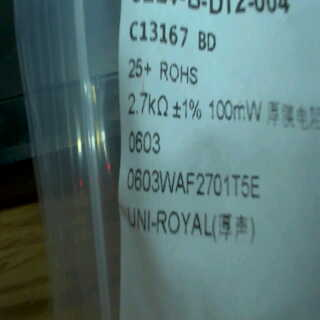2.7kR: (122, 90, 173, 119)
